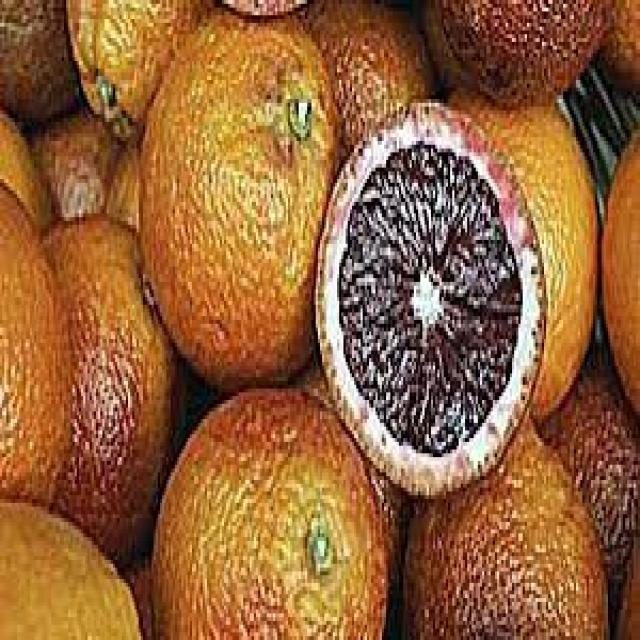orange: (136, 30, 332, 366)
